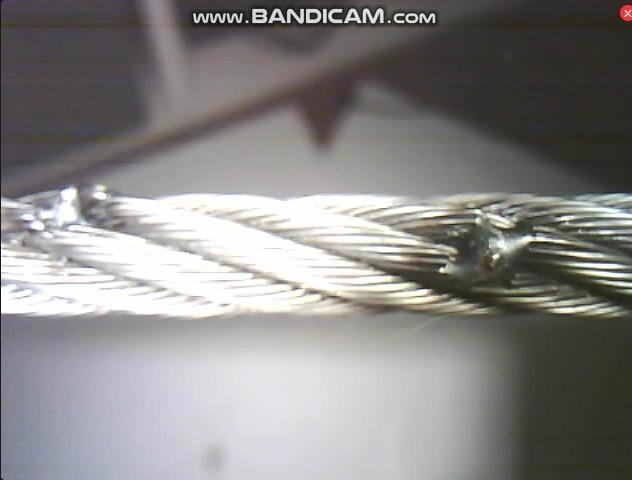thunderbolt: (25, 188, 139, 255)
